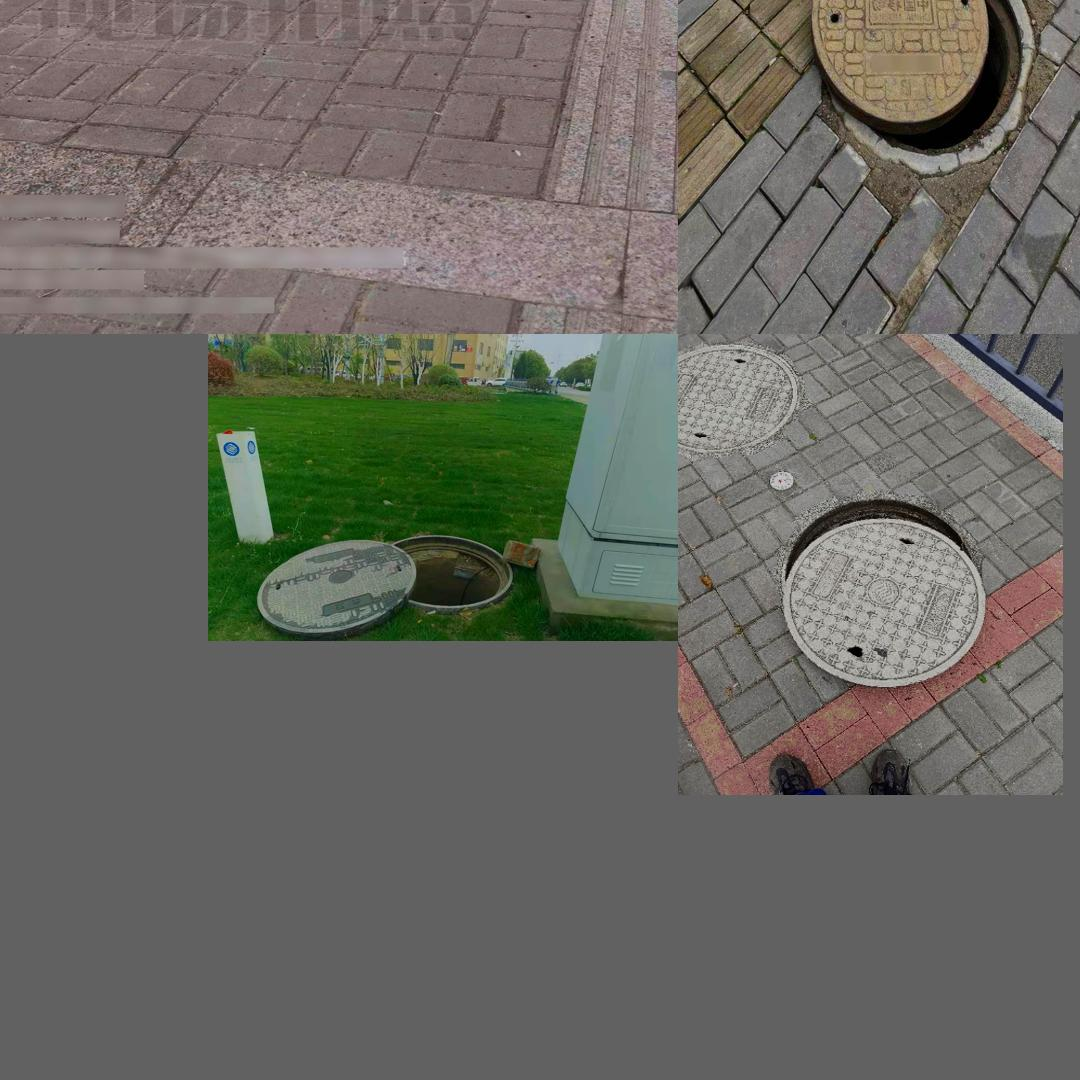good: (678, 343, 798, 456)
uncovered: (772, 490, 986, 686), (810, 0, 1035, 175), (257, 527, 516, 632)
